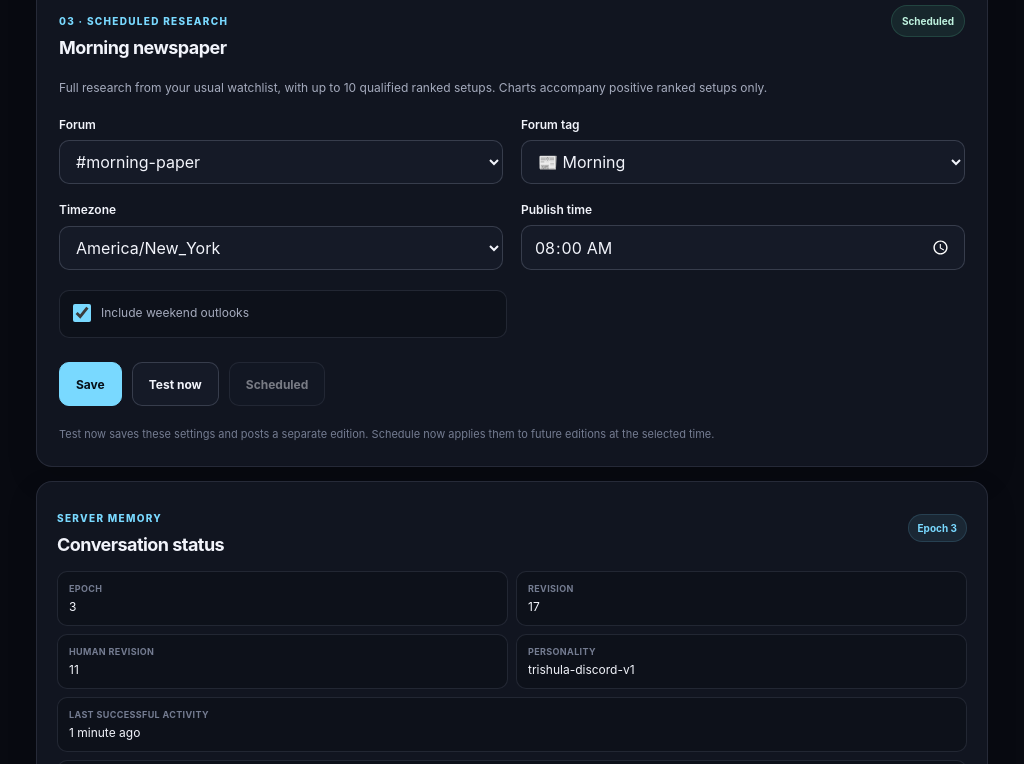
Scenario: Discord control surface › identifies a Save failure even when preserving an existing schedule
The width and height of the screenshot is (1024, 764).
(page scrolled)
Click the button with aria-label "Save morning newspaper": (90, 384) 59,362 -> 122,406
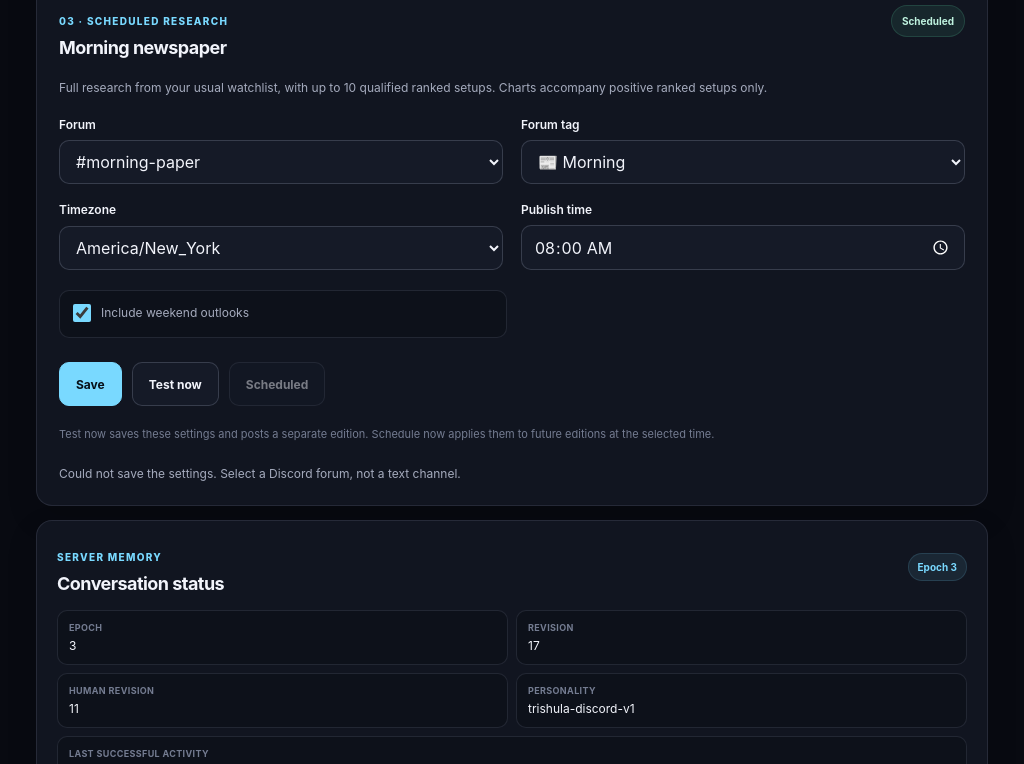
Check: the button "Scheduled" is disabled, box 229,362 -> 325,406
Check: the text "Could not save the settings. Select a Discord forum, not a text channel." is shown, box 59,466 -> 461,481
